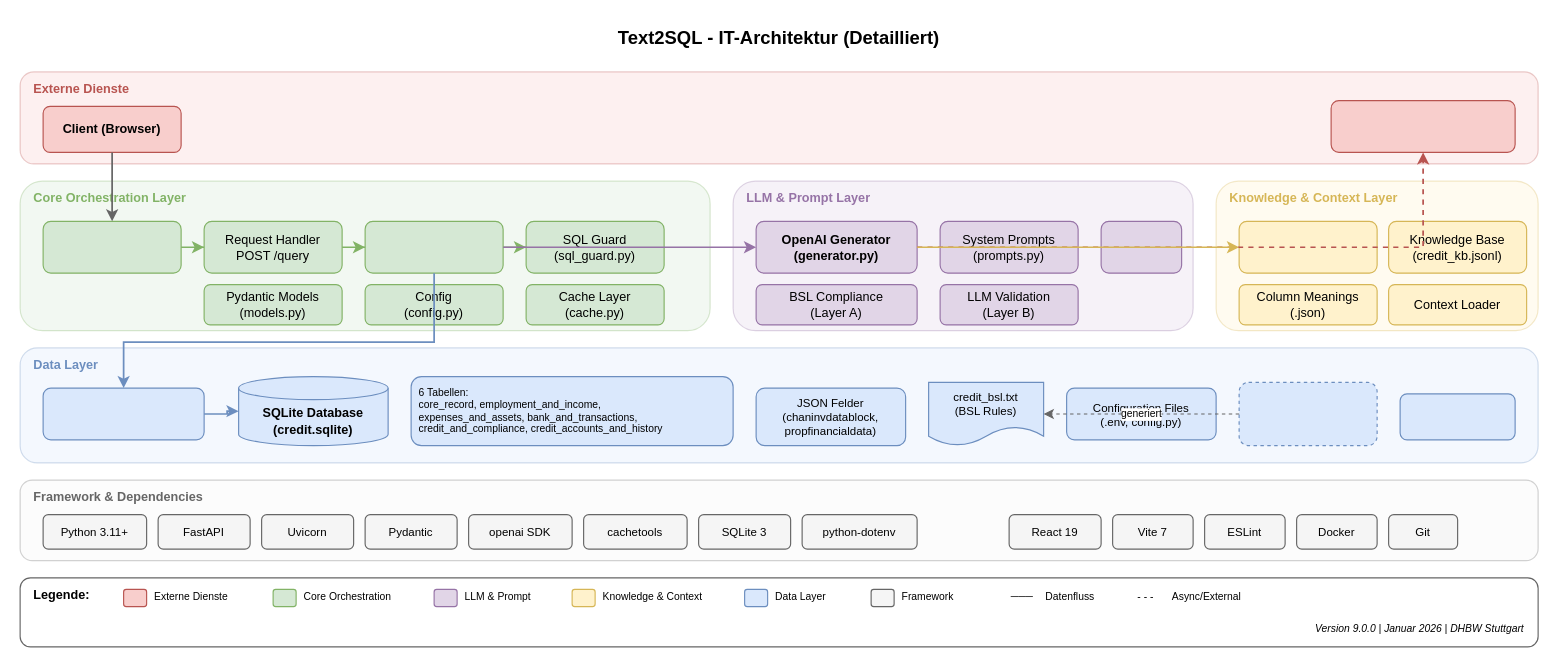
Some shapes in this 1558 by 667 pixel diagram are drawn without their labels. The shapes that lost their labels are listed below. From the top down, each one's centre as x and y in pixels, then its label:
point (1422, 125): OpenAI API (GPT-5.2)
point (111, 246): FastAPI App (main.py)
point (433, 246): Pipeline Orchestrator
point (1141, 246): Query Optimizer
point (1307, 246): Business Semantics Layer (BSL)
point (123, 413): Database Manager (manager.py)
point (1307, 413): BSL Builder (bsl_builder.py) [Offline Tool]
point (1457, 416): Test Results (test_results/)
